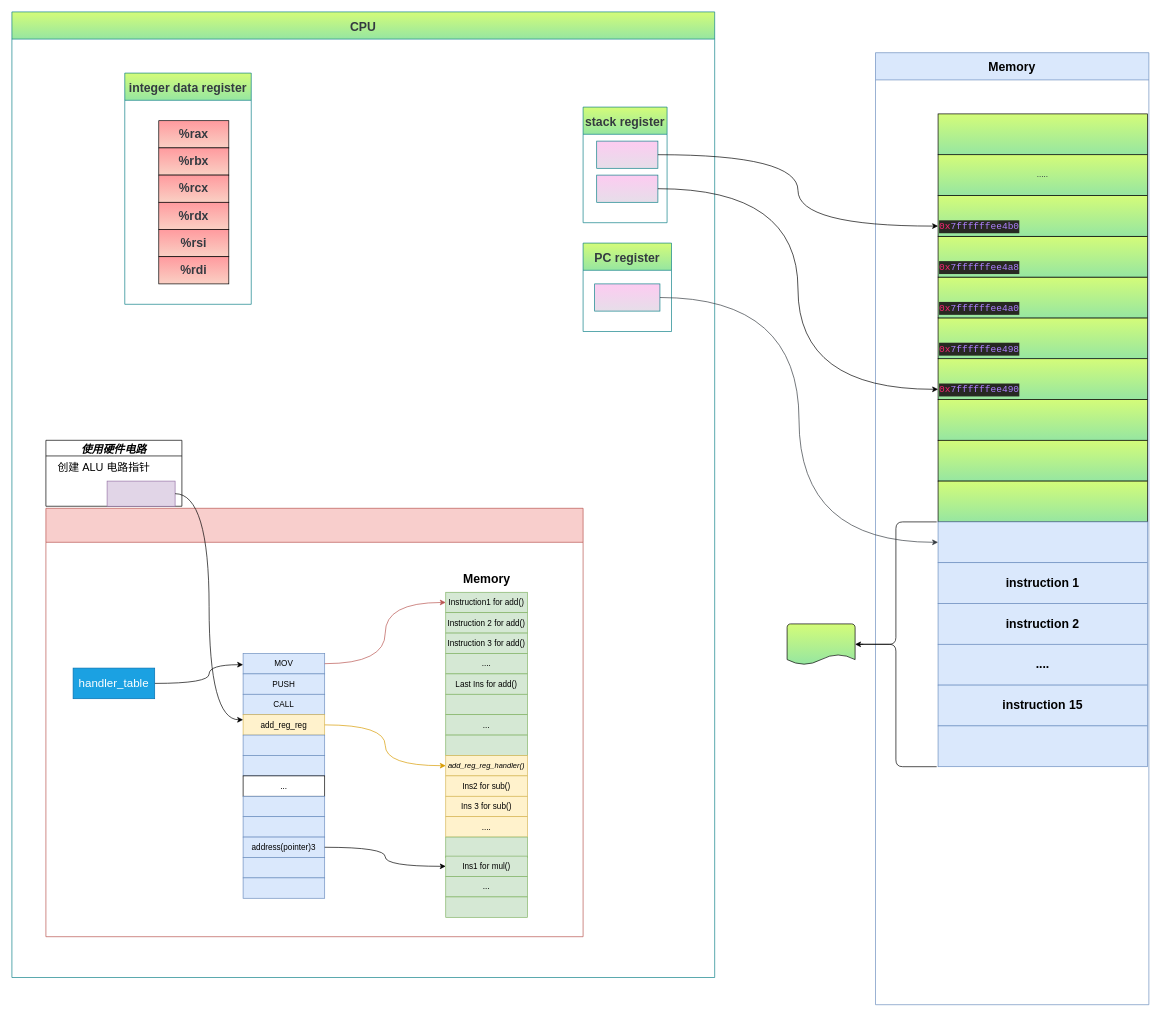
Image size: 1161x1017. Some labels were removed from this diagram. The centre of each missing label's shape, as x and y in pixels:
%rbp: point 627,154
%rip: point 627,297
%rsp: point 627,188
*handler(): point 140,493
instruction 0: point 1042,542
Text: point 820,644
模仿硬件电路--创建ALU: point 314,722
